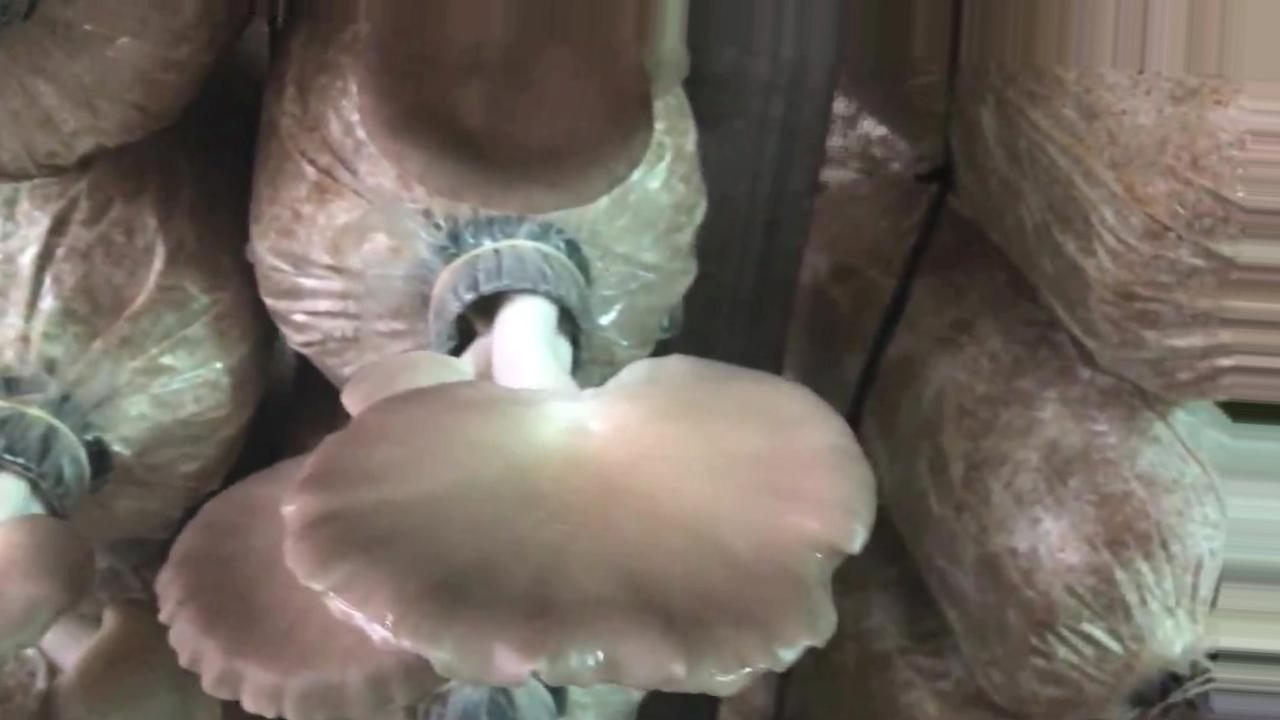nam: (285, 228, 884, 696), (146, 453, 451, 720), (1, 368, 227, 720), (352, 9, 656, 218)
